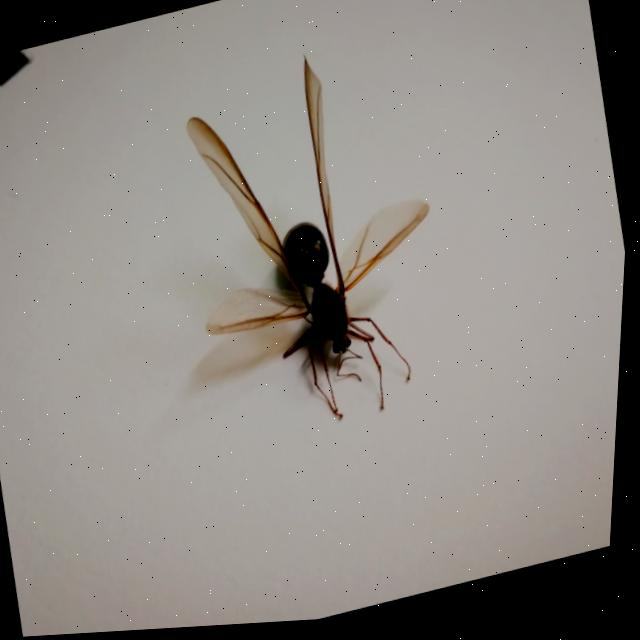Dead-Male-Alate: (157, 30, 476, 457)
